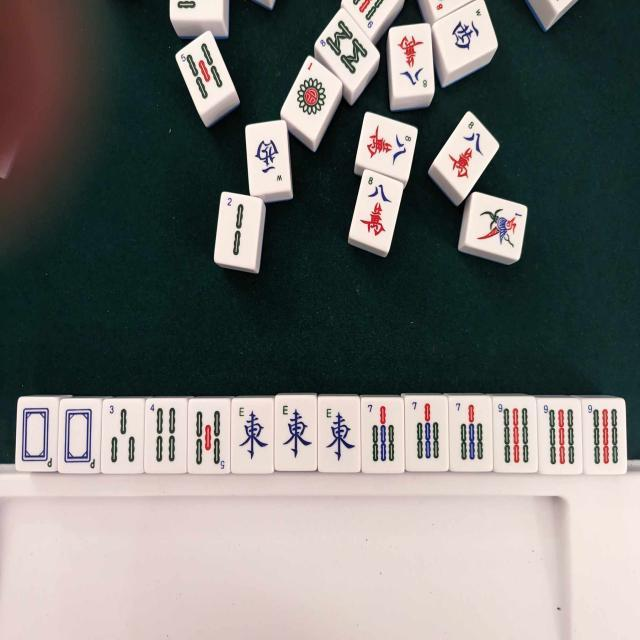hdw: (60, 399, 100, 472), (18, 398, 58, 468)
hwe: (234, 399, 276, 472), (321, 398, 362, 472), (275, 398, 316, 470)
sb3: (102, 400, 144, 472)
sb4: (146, 400, 187, 473)
sb5: (191, 400, 231, 472)
sb7: (448, 398, 491, 470), (405, 398, 447, 470), (363, 401, 404, 474)
sb9: (494, 398, 536, 471), (540, 400, 582, 472), (582, 399, 622, 472)
